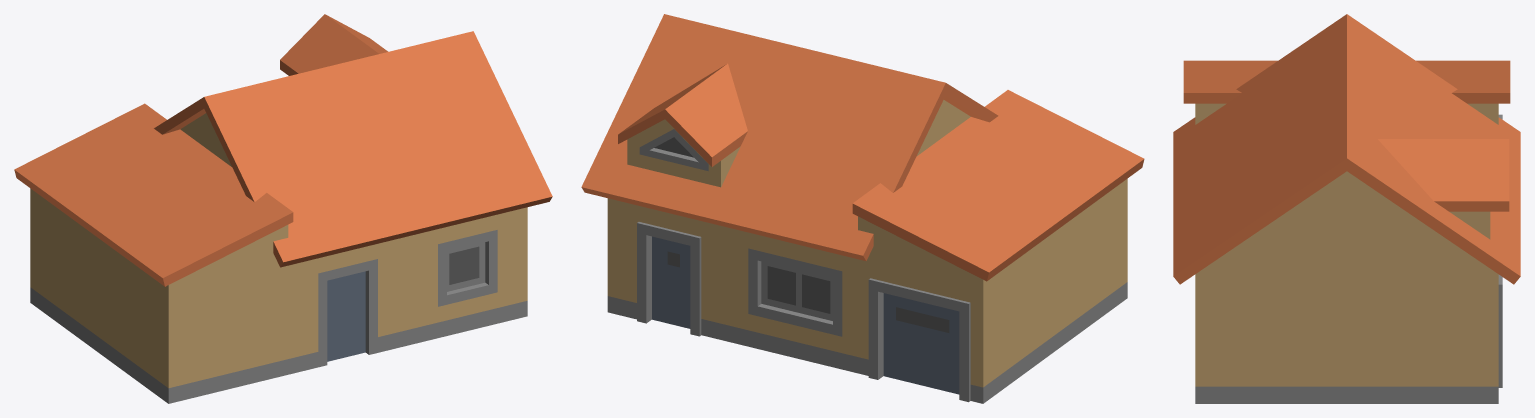
File: SM_Suburb_House_03.fbx
3 renders of one model, left to right at view 1: azimuth 30°, elevation 25°; view 2: azimuth 150°, elevation 25°; view 3: azimuth 270°, elevation 25°, orthographic. The views are drawn at different scales.
Parts seen in each view (by area): view 1: SM_Suburb_House_03; view 2: SM_Suburb_House_03; view 3: SM_Suburb_House_03.
Part boxes in pixels (x1,y1,x2,y2): SM_Suburb_House_03: (14,14,552,403); SM_Suburb_House_03: (581,14,1144,403); SM_Suburb_House_03: (1173,14,1520,403).
Size of the model in its own units: 926 by 531 by 660.
